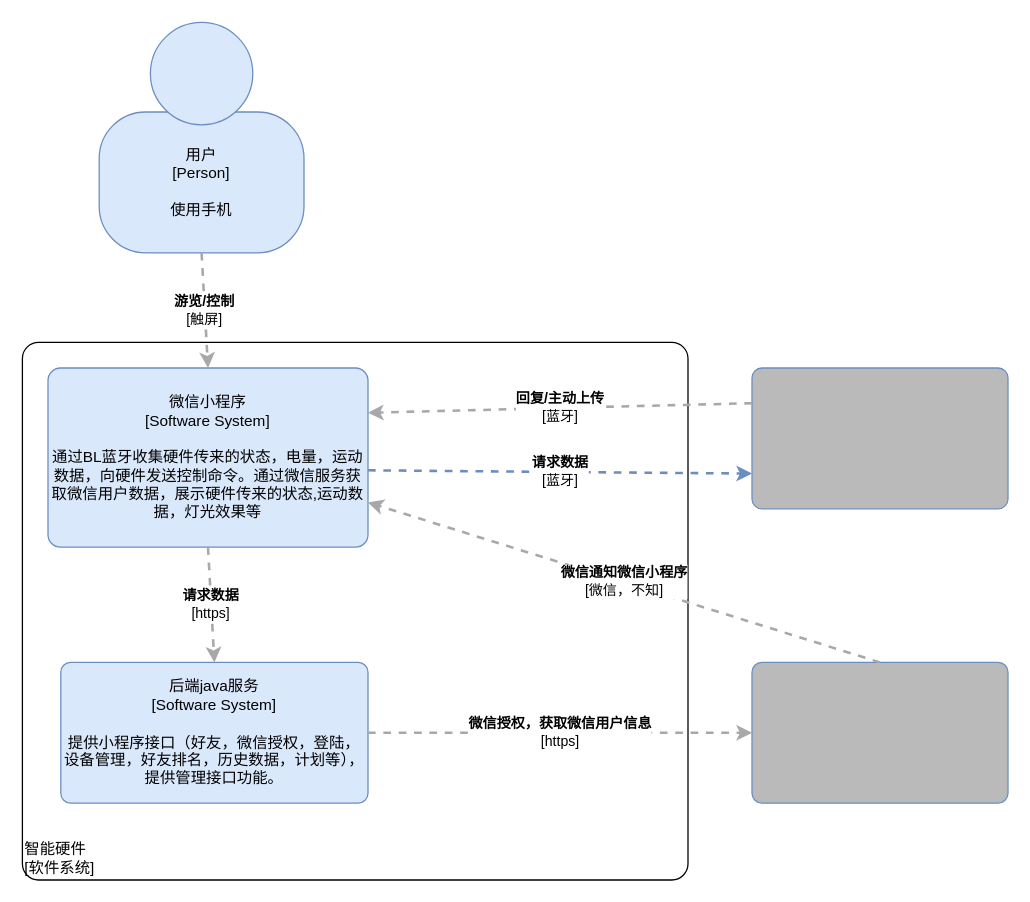
The diagram is 1030 pixels wide and 902 high, and some of its shapes have lost their labels. The shapes that lost their labels are listed below. From the top down, each one's box as (x1, y1, x2, y2) in pixels, then its label:
(751, 367, 1008, 509): 单片机 [Software System] 硬件展示实际的灯光效果，以及记录毽子，跳绳的运动数据
(751, 661, 1008, 803): 微信服务器 [Software System] 微信提供授权，获取用户信息功能
